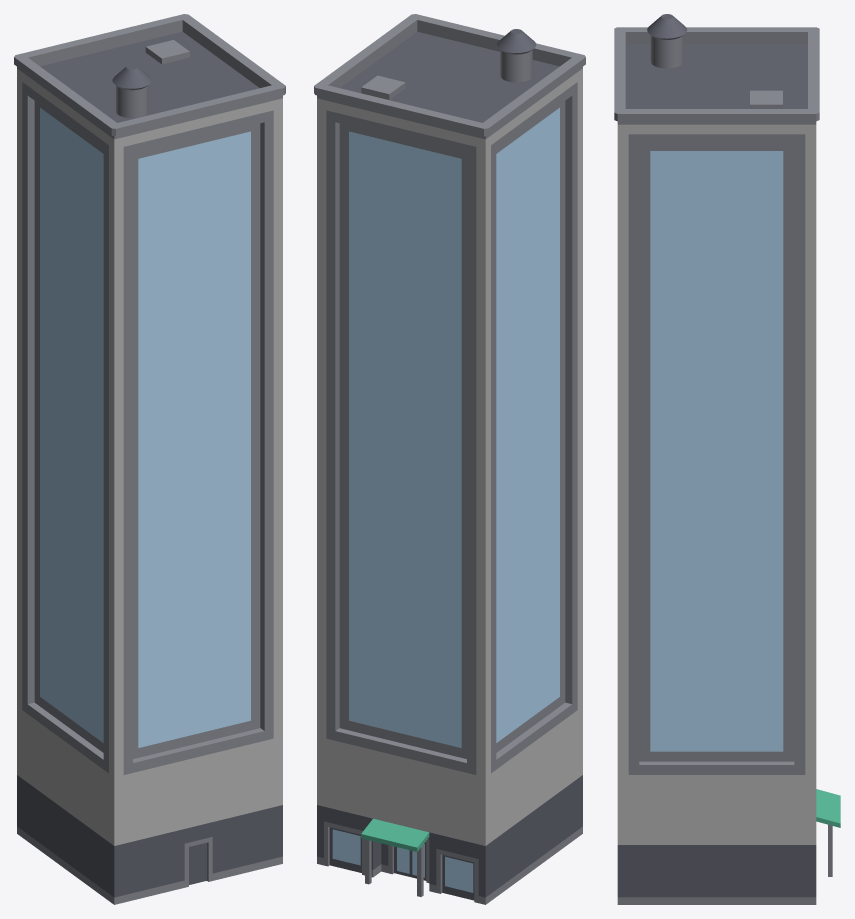
File: skyscraperD.dae
3 renders of one model, left to right at view 1: azimuth 30°, elevation 25°; view 2: azimuth 150°, elevation 25°; view 3: azimuth 270°, elevation 25°, orthographic.
Parts seen in each view (by area): view 1: skyscraperD; view 2: skyscraperD; view 3: skyscraperD.
Boxes of the visible parts, <box> form: skyscraperD: <box>14,14,285,904</box>; skyscraperD: <box>314,14,585,904</box>; skyscraperD: <box>614,14,840,904</box>.
Bounding box in the file's own units: 1.24 × 5.5 × 1.37.
